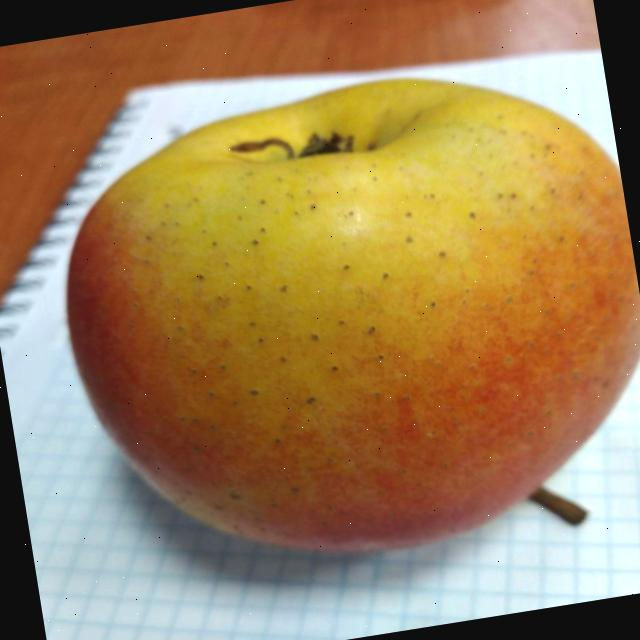apple: (8, 21, 640, 632)
